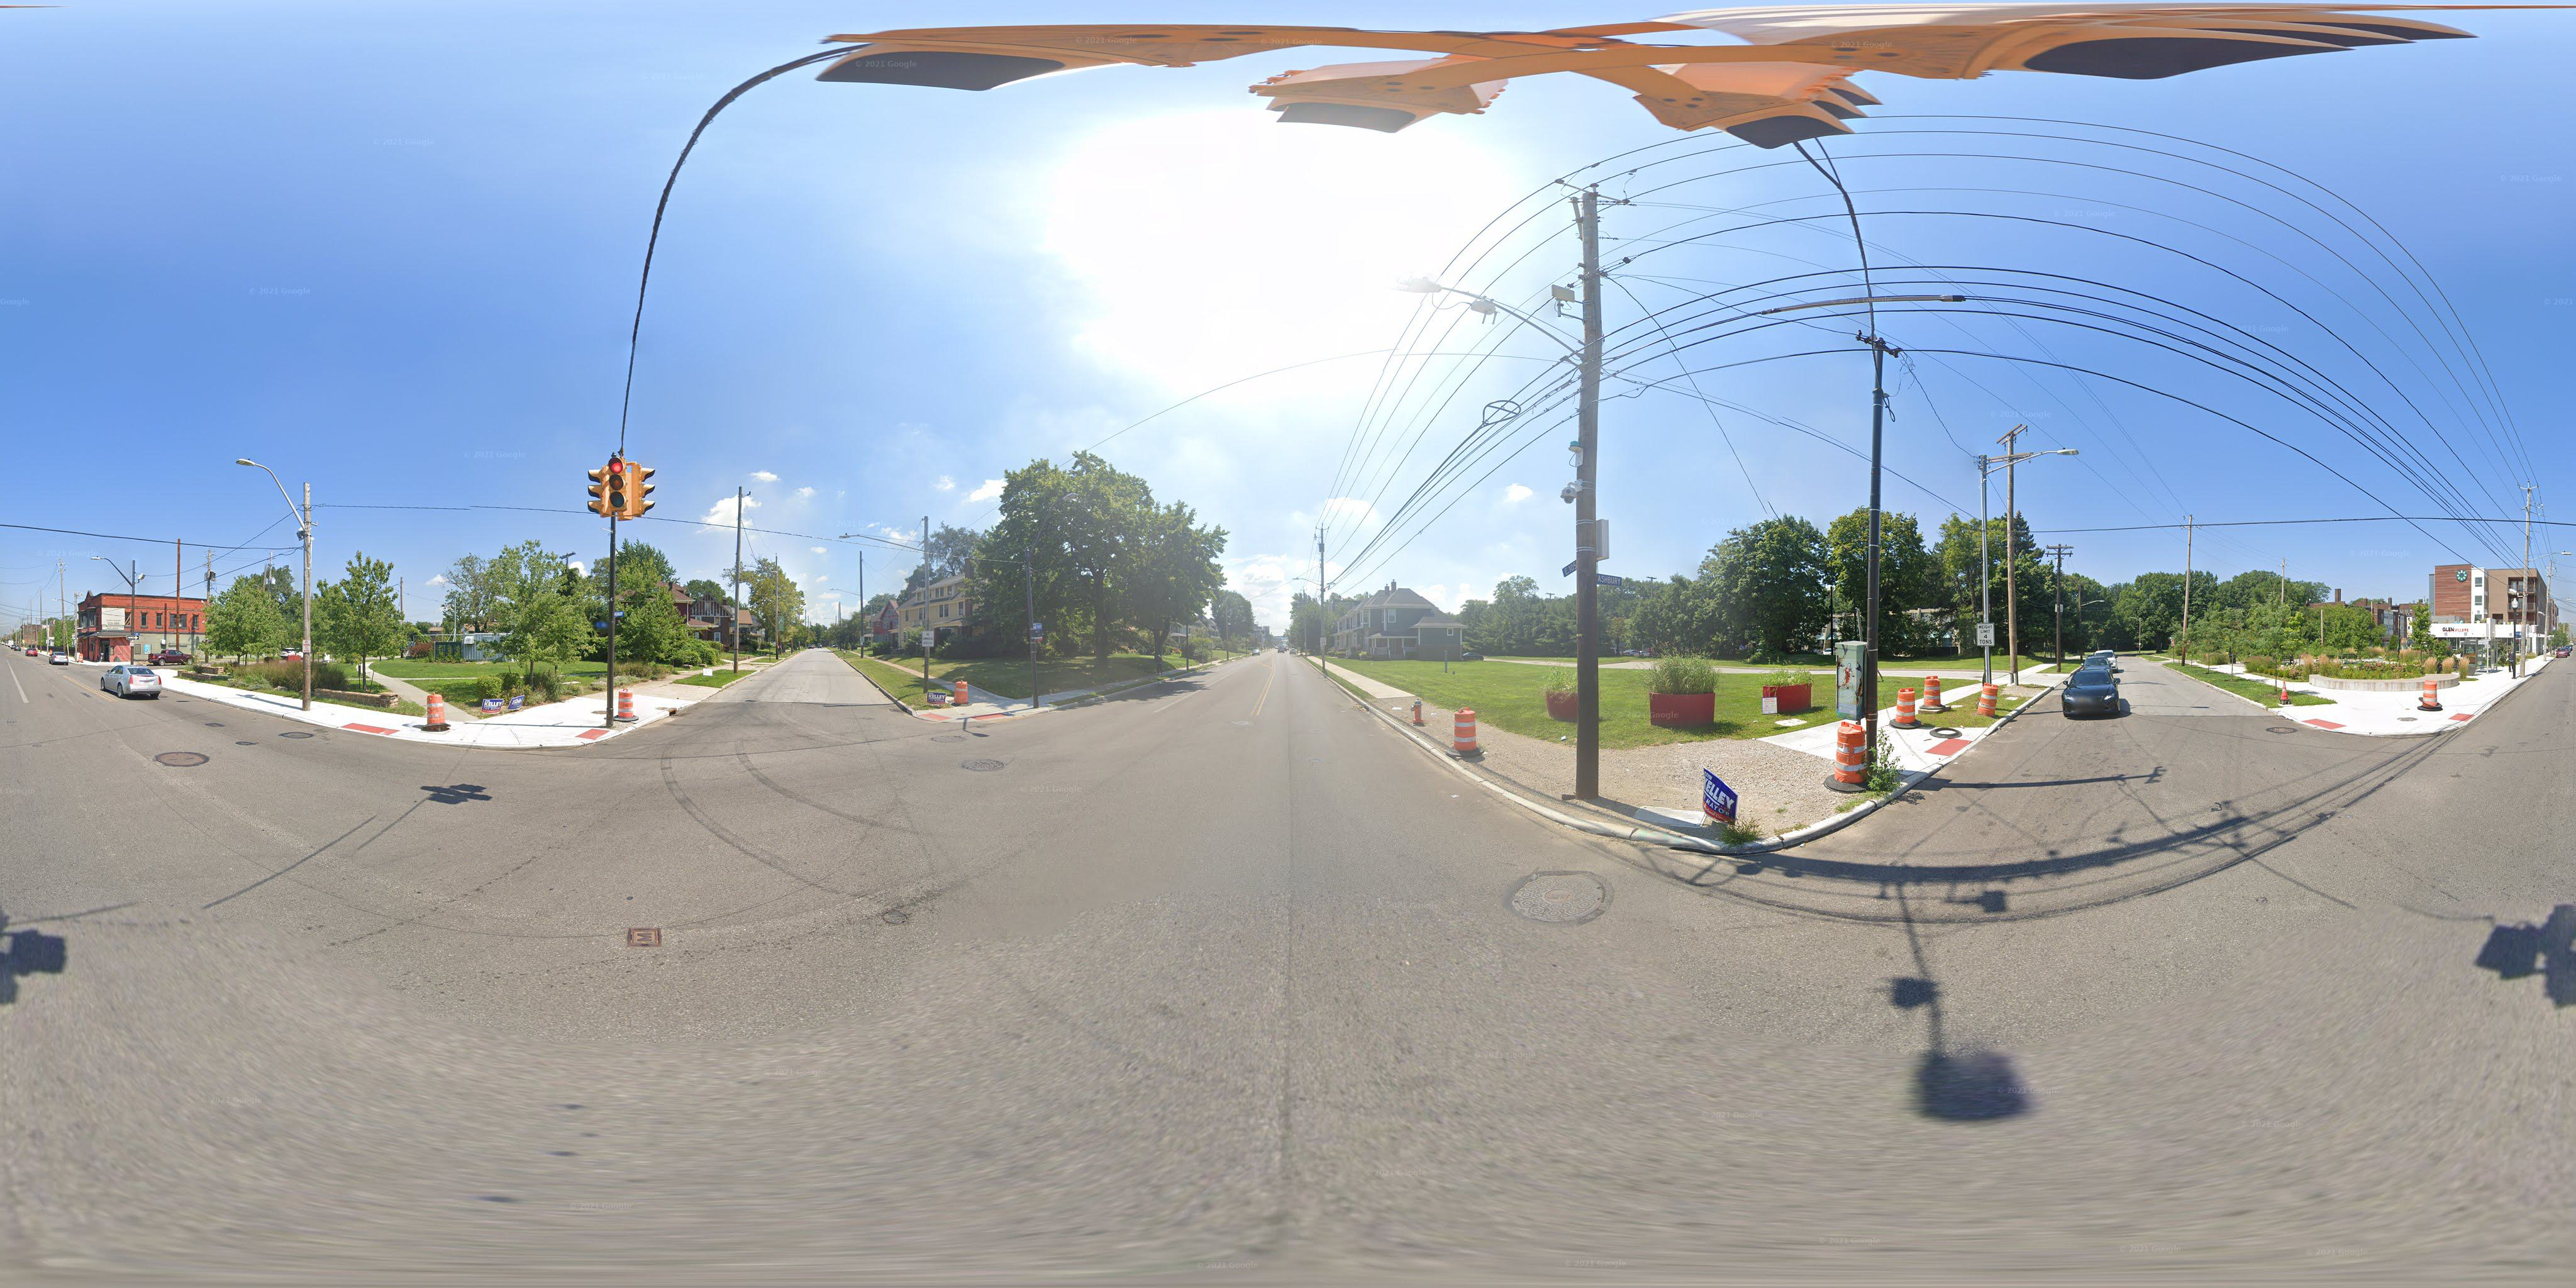Curb Ramp: (327, 706, 407, 749), (1924, 726, 1988, 769), (2288, 706, 2353, 741), (567, 713, 619, 751), (966, 708, 1023, 728), (2446, 705, 2484, 733), (915, 703, 953, 729)
Irregular Ramp: (1431, 726, 1548, 816)
